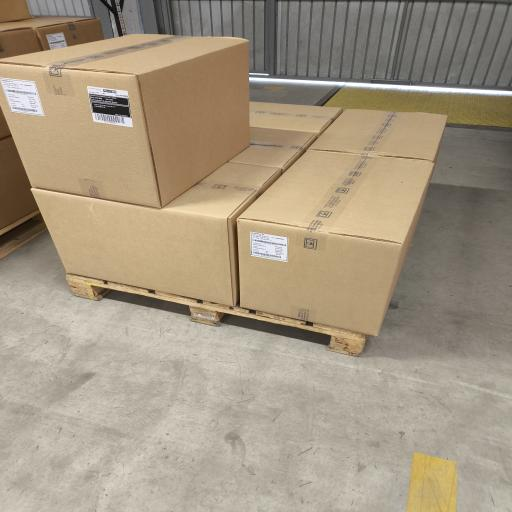pallet: (67, 274, 367, 356), (0, 210, 47, 258)
